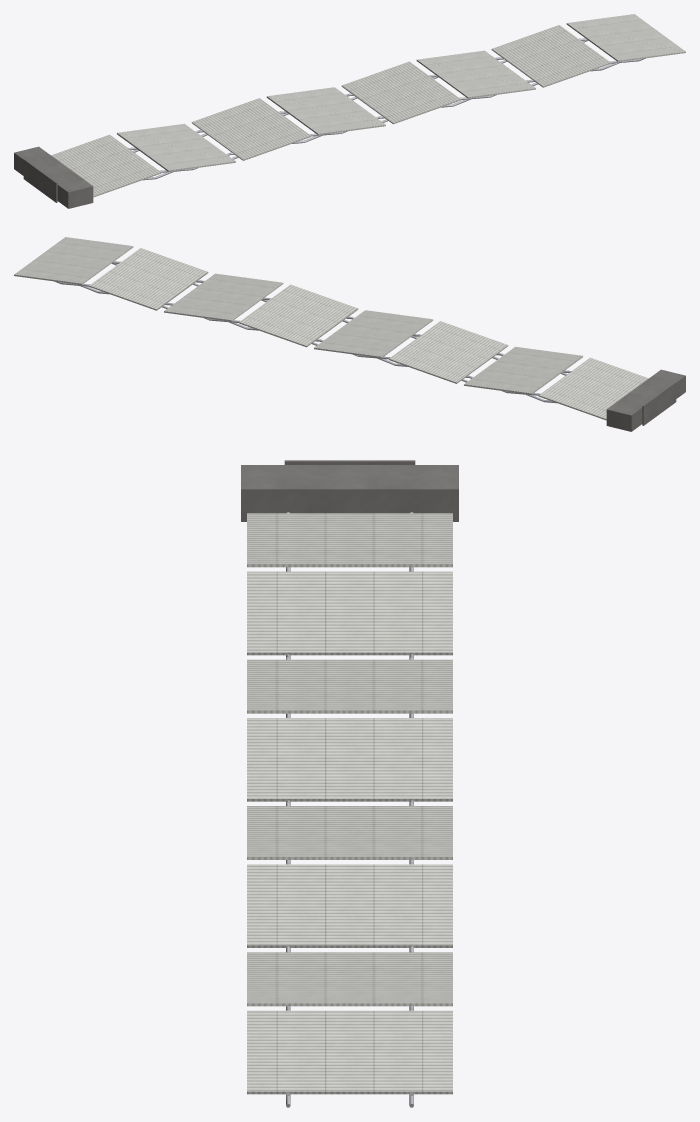
File: power08_radiator_l_deployed.glb
3 views of the same model, one above another, from view 1: azimuth 30°, elevation 25°; view 2: azimuth 150°, elevation 25°; view 3: azimuth 270°, elevation 25° (orthographic). The views are drawn at different scales.
Parts seen in each view (by area): view 1: panels, base_box, scissor_mechanism; view 2: panels, base_box, scissor_mechanism; view 3: panels, base_box.
Part boxes in pixels (left/top/right/bottom): panels: left=51, top=14, right=685, bottom=197; base_box: left=14, top=146, right=93, bottom=208; scissor_mechanism: left=128, top=38, right=645, bottom=180; panels: left=14, top=237, right=648, bottom=420; base_box: left=606, top=369, right=685, bottom=431; scissor_mechanism: left=54, top=261, right=571, bottom=403; panels: left=247, top=513, right=452, bottom=1094; base_box: left=241, top=460, right=458, bottom=521.
Size of the model in its own units: 23.68 by 0.7623 by 3.6.
3 materials, 3 textured.
